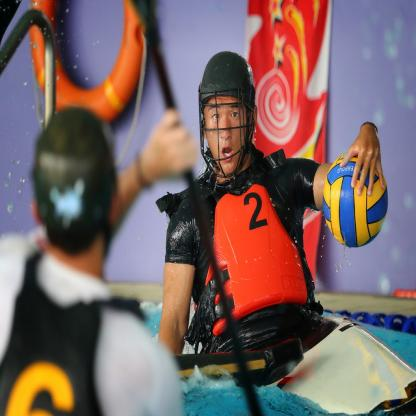Helmet: (32, 108, 118, 256), (198, 49, 260, 179)
